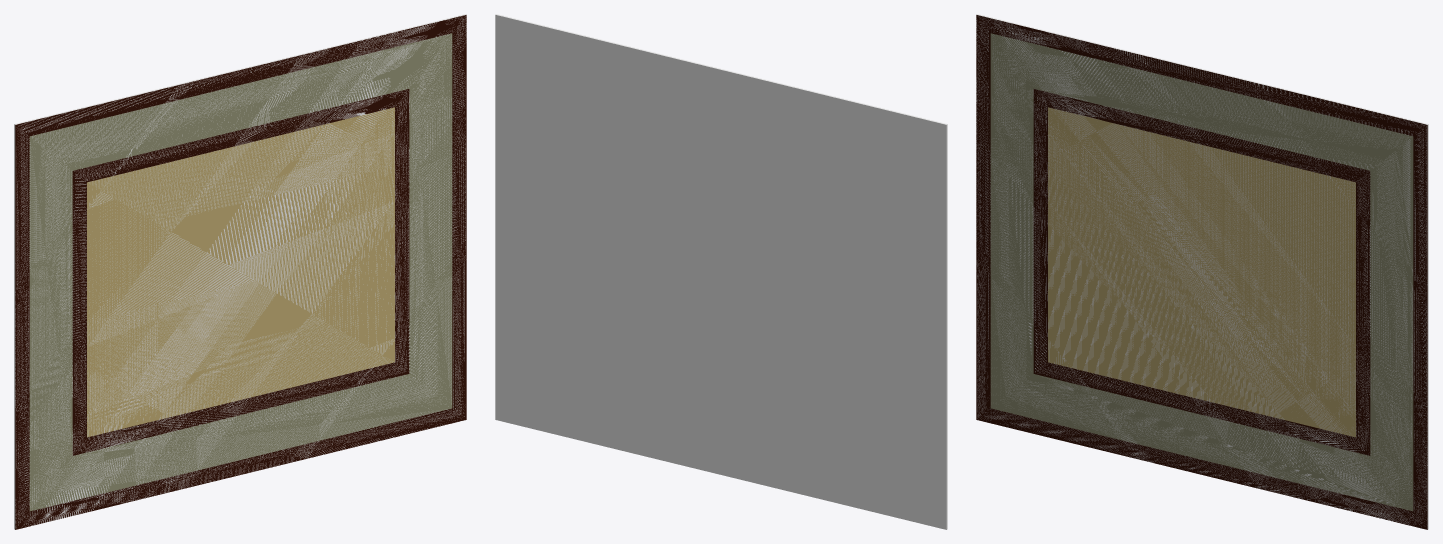
3 renders of one model, left to right at view 1: azimuth 30°, elevation 25°; view 2: azimuth 150°, elevation 25°; view 3: azimuth 330°, elevation 25°, orthographic.
Parts seen in each view (by area): view 1: area rug; view 2: area rug; view 3: area rug.
Part boxes in pixels (x1,y1,x2,y2): area rug: (14, 14, 466, 529); area rug: (495, 14, 947, 529); area rug: (976, 14, 1428, 529).
Size of the model in its own units: 62.94 by 54 by 0.25.
